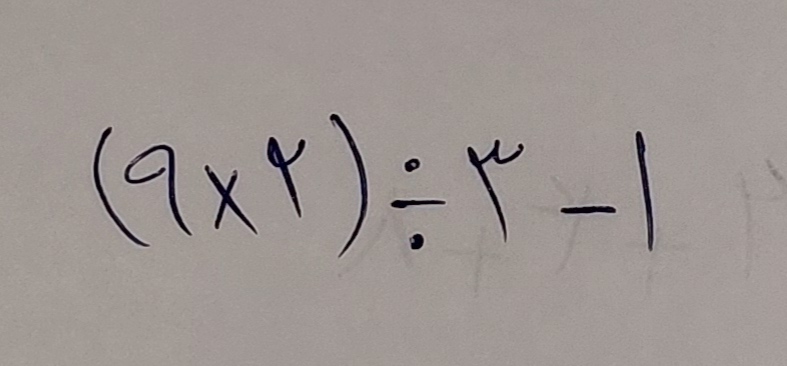character: (93, 125, 151, 248), (326, 111, 373, 261), (126, 140, 193, 236), (466, 139, 523, 244), (388, 156, 450, 251), (201, 162, 261, 235), (265, 133, 312, 216), (634, 126, 658, 251), (557, 204, 618, 215)
